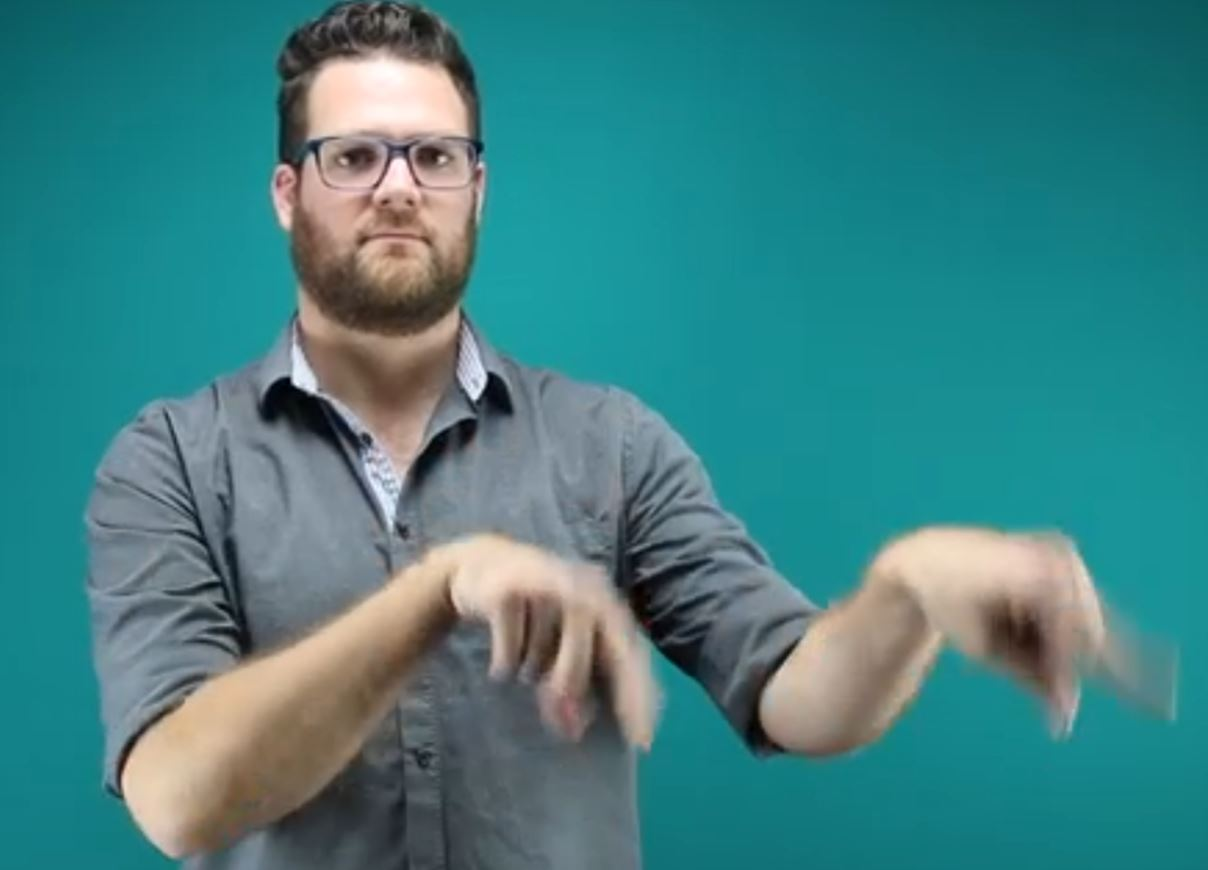go: (364, 501, 1194, 754)
